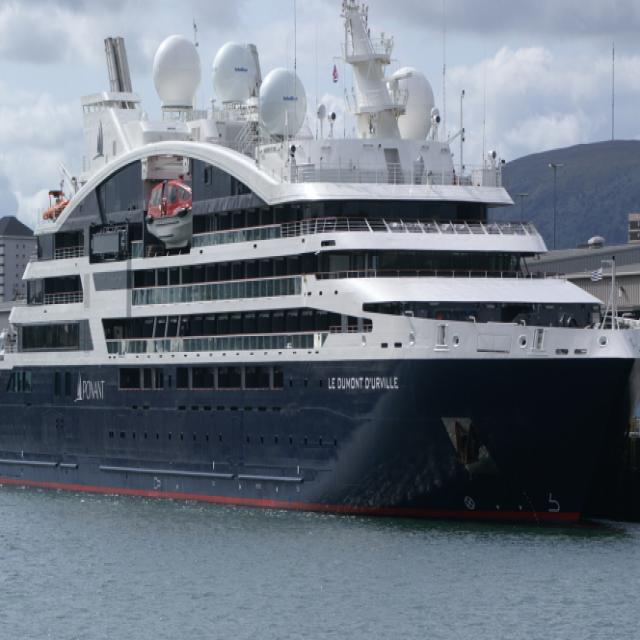cruises: (1, 1, 640, 548)
